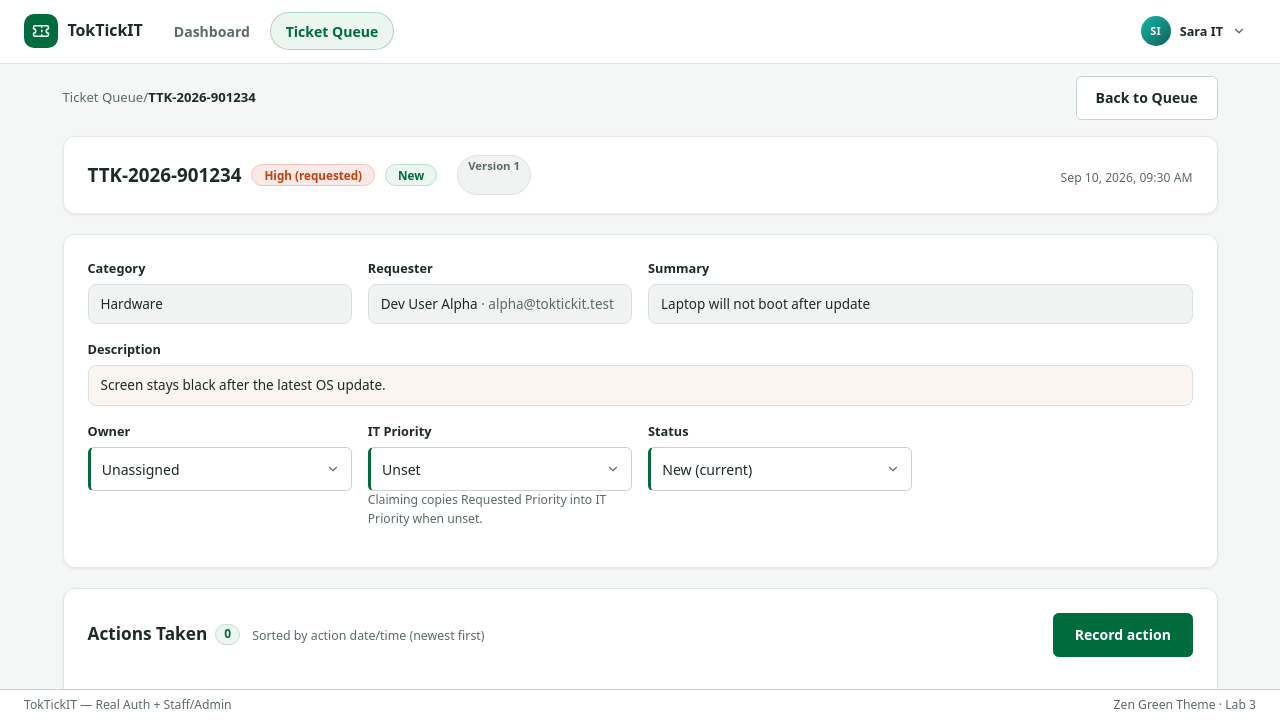
Scenario: T-DETAIL-01 — field grouping and read-only enforcement (ui-spec §7.1) › saves an owner change to PATCH /owner and shows the success banner
The width and height of the screenshot is (1280, 720).
Select "Tom IT" in the dropdown labelled "Owner": (220, 469) x1=88 y1=447 x2=352 y2=491
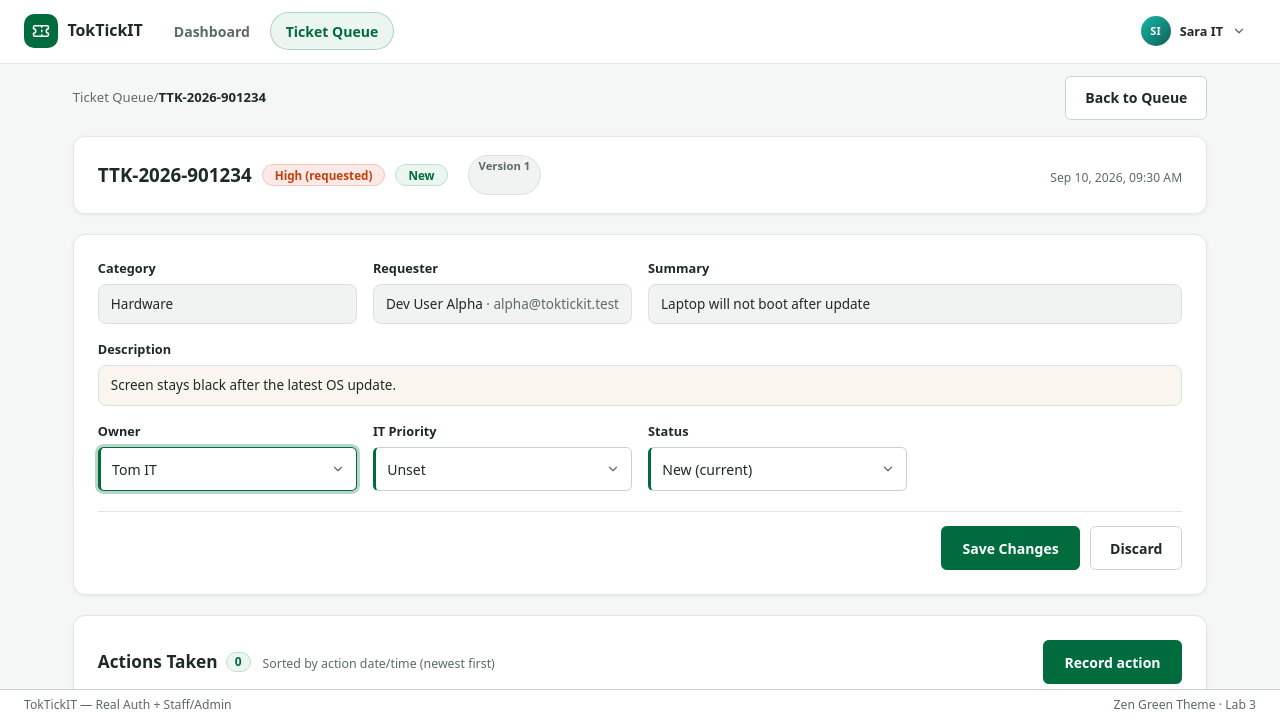
Click the button "Save Changes": click(1011, 548) x1=941 y1=526 x2=1080 y2=570
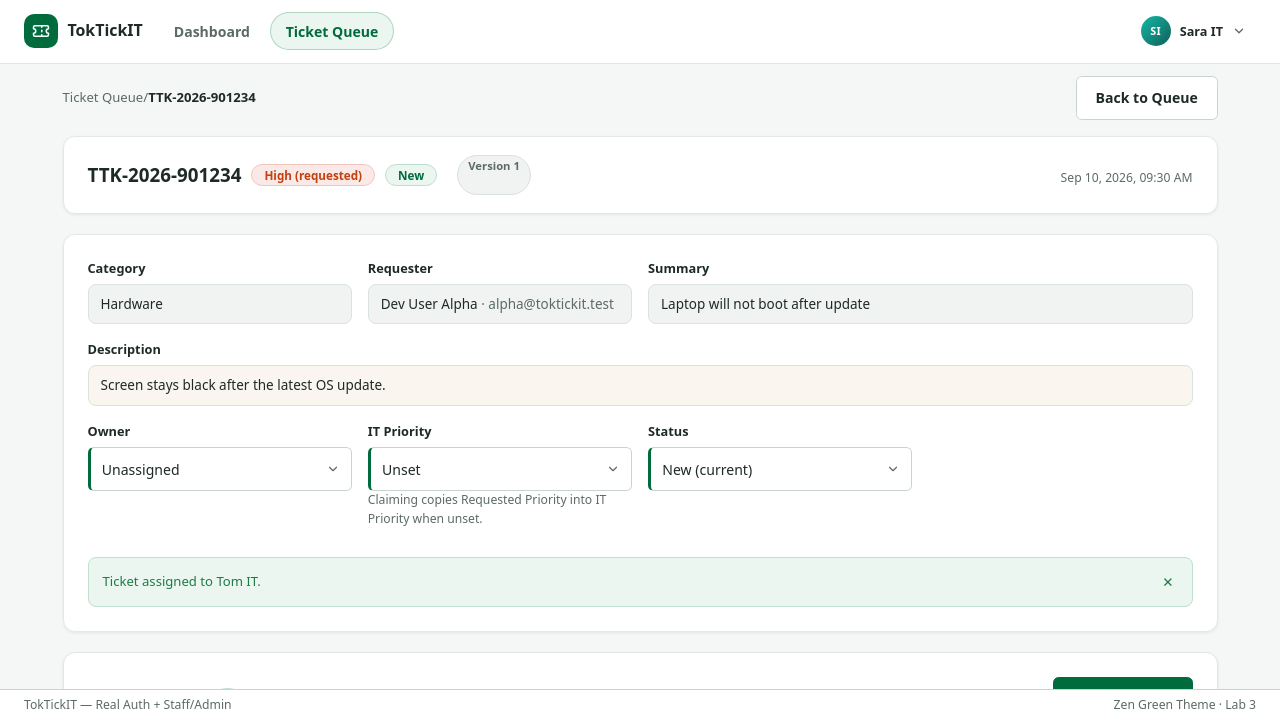
Expected: the text "Ticket assigned to Tom IT." is shown, x1=102 y1=572 x2=261 y2=590
